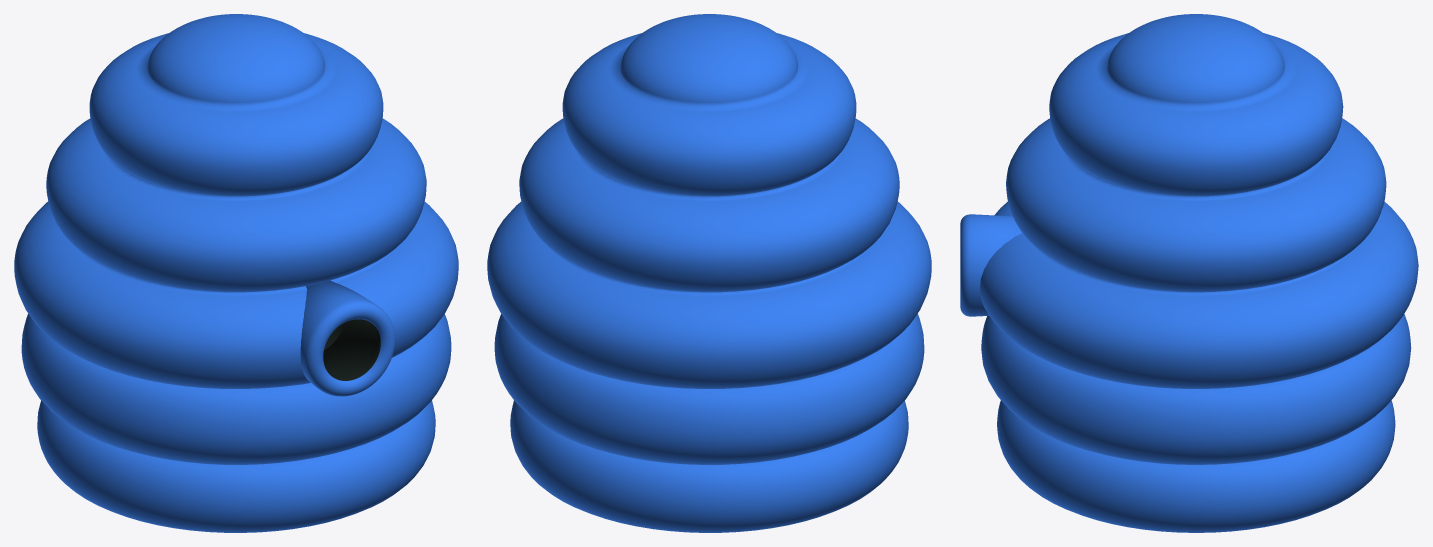
File: Small_Hive_Blue.fbx
The picture shows the model from 3 angles, left to right: view 1: azimuth 30°, elevation 25°; view 2: azimuth 150°, elevation 25°; view 3: azimuth 270°, elevation 25°; orthographic projection.
Visible parts, largest first — view 1: Small_Hive_Blue_Body, Small_Hive_Blue_Entrance_Collar; view 2: Small_Hive_Blue_Body; view 3: Small_Hive_Blue_Body, Small_Hive_Blue_Entrance_Collar.
Part boxes in pixels (box(x1,y1,x2,y2)): Small_Hive_Blue_Body: box(14, 14, 458, 532); Small_Hive_Blue_Entrance_Collar: box(300, 280, 395, 396); Small_Hive_Blue_Body: box(487, 14, 931, 532); Small_Hive_Blue_Body: box(980, 14, 1418, 532); Small_Hive_Blue_Entrance_Collar: box(960, 214, 1021, 316).
Size of the model in its own units: 209 by 223 by 215.
